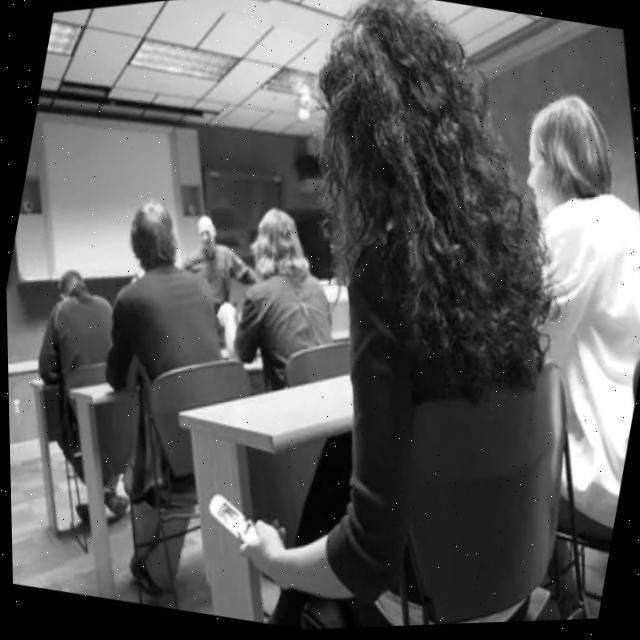phone: (193, 481, 265, 559)
